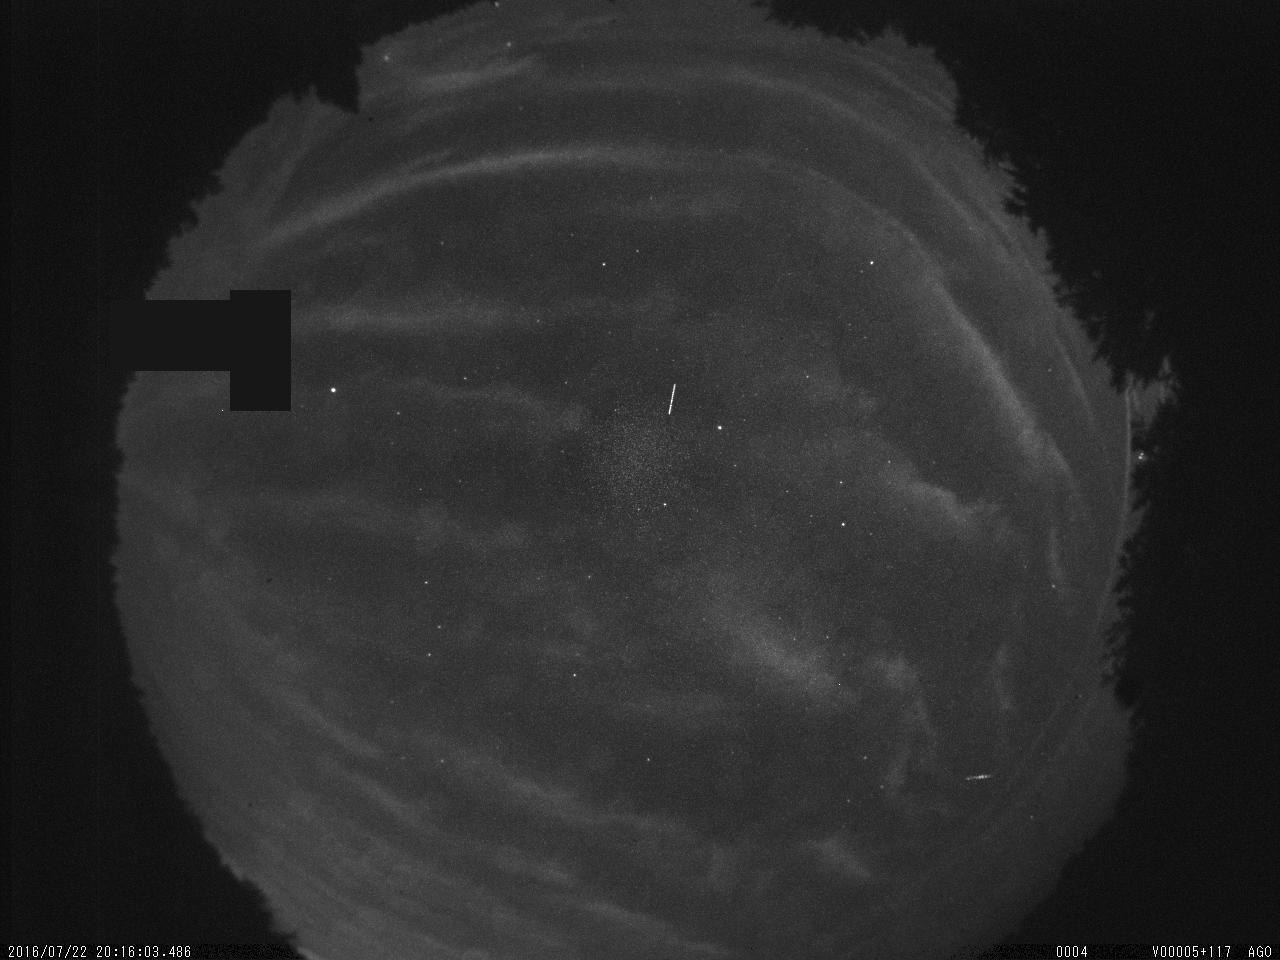meteor: (958, 765, 999, 787)
satelite: (658, 375, 684, 424)
